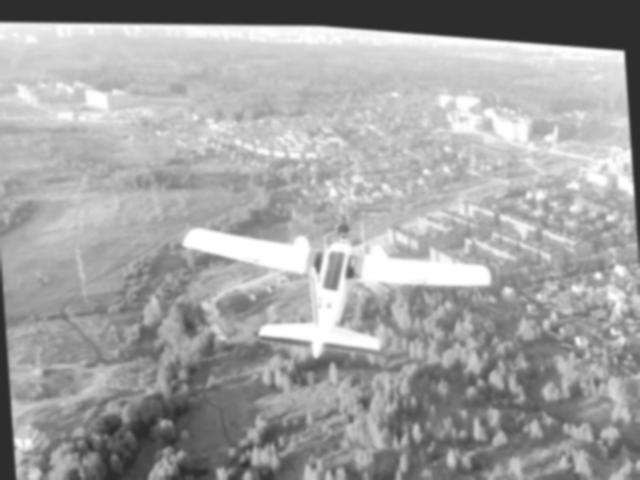hedef: (158, 194, 518, 385)
